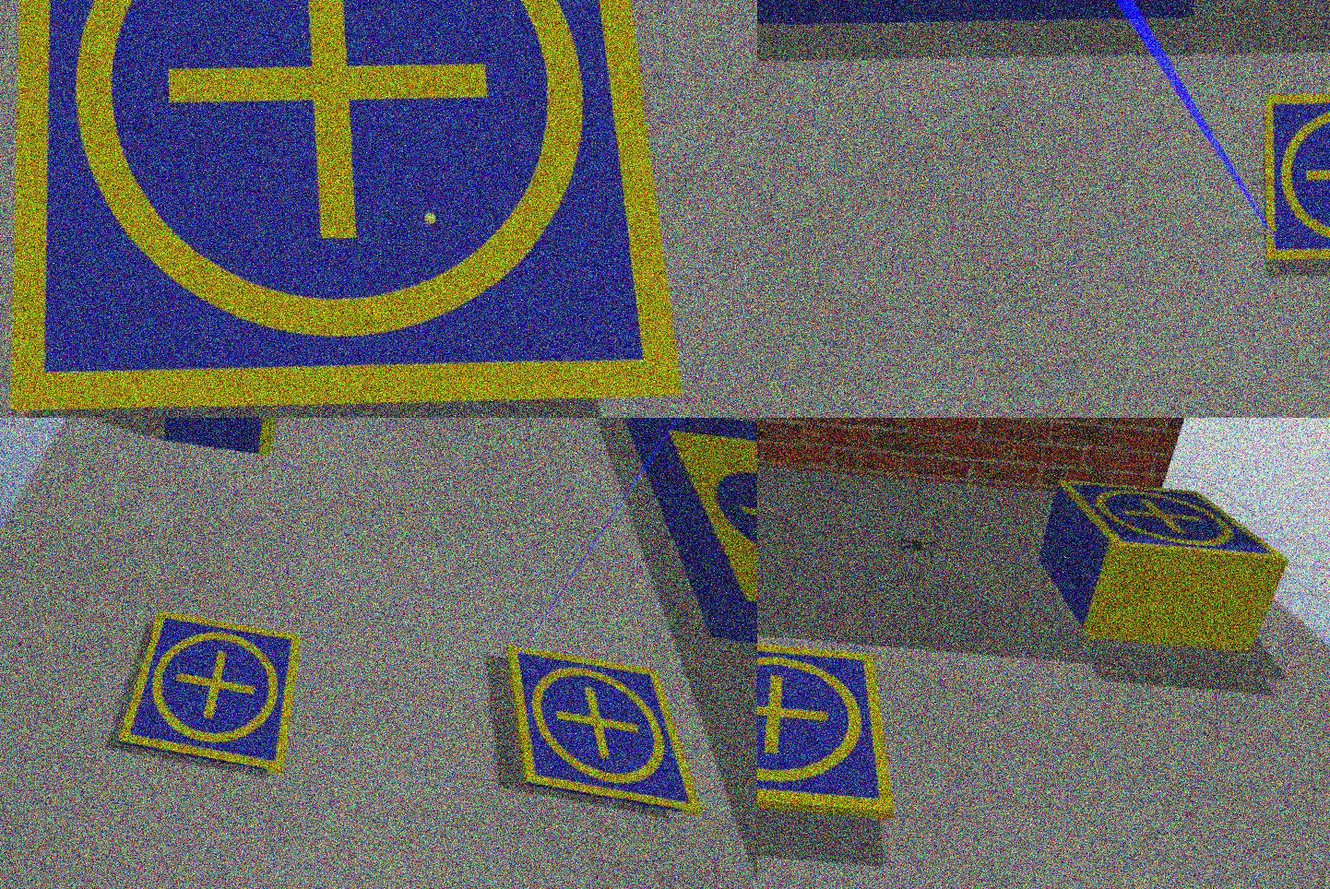large_base: (600, 419, 757, 660)
small_base: (1, 1, 737, 419), (495, 641, 717, 820), (114, 610, 301, 772), (757, 634, 912, 824), (1047, 477, 1300, 575), (1246, 74, 1330, 282)
